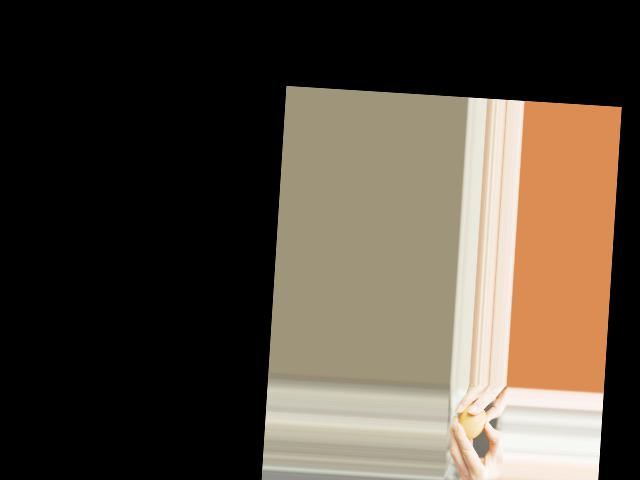egg: (456, 403, 487, 439)
